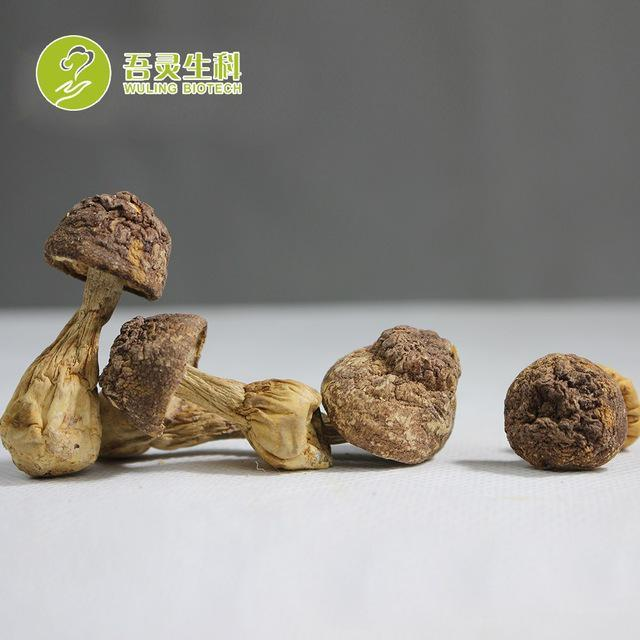Agaricus blazei Murill: (11, 189, 165, 493), (109, 309, 336, 471), (309, 326, 475, 467), (515, 353, 638, 474)
